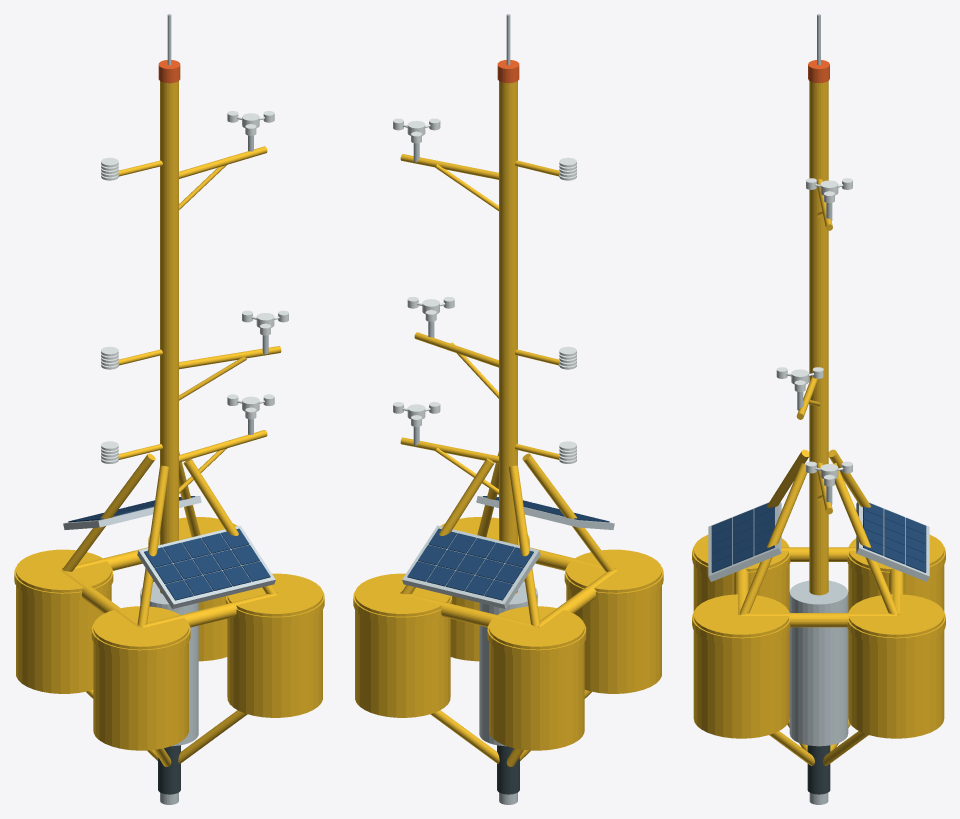
The model's file is deepsea-flux-buoy.glb.
3 renders of one model, left to right at view 1: azimuth 30°, elevation 25°; view 2: azimuth 150°, elevation 25°; view 3: azimuth 270°, elevation 25°, orthographic.
Visible parts, largest first — view 1: 浮筒 (×4), 主桅杆, 承力支架 (×4), 太阳能边框 (×2), 浮筒护圈 (×3), 浮体框架 (×3), 传感器横臂 (×3), 电池及采集舱, CTD, 水下支架; view 2: 浮筒 (×4), 主桅杆, 承力支架 (×4), 太阳能边框 (×2), 浮筒护圈 (×3), 浮体框架 (×3), 传感器横臂 (×3), 电池及采集舱, CTD, 水下支架; view 3: 浮筒 (×4), 主桅杆, 电池及采集舱, 承力支架 (×4), 浮筒护圈 (×4), 浮体框架 (×4), 太阳能边框 (×2), CTD, 水下支架 (×2).
Boxes of the visible parts, x1,y1,x2,y2 form: 浮筒 (×4): (16, 517, 322, 750); 主桅杆: (160, 81, 178, 593); 承力支架 (×4): (62, 451, 276, 627); 太阳能边框 (×2): (63, 496, 275, 608); 浮筒护圈 (×3): (14, 567, 324, 657); 浮体框架 (×3): (61, 537, 276, 627); 传感器横臂 (×3): (179, 146, 281, 462); 电池及采集舱: (140, 581, 198, 746); CTD: (158, 745, 180, 794); 水下支架: (178, 710, 247, 763); 浮筒 (×4): (355, 517, 661, 750); 主桅杆: (499, 81, 517, 593); 承力支架 (×4): (401, 451, 615, 627); 太阳能边框 (×2): (402, 496, 614, 608); 浮筒护圈 (×3): (353, 567, 663, 657); 浮体框架 (×3): (401, 537, 616, 627); 传感器横臂 (×3): (400, 154, 498, 463); 电池及采集舱: (479, 581, 537, 746); CTD: (497, 745, 519, 794); 水下支架: (430, 710, 499, 763); 浮筒 (×4): (693, 534, 944, 738); 主桅杆: (809, 81, 828, 595); 电池及采集舱: (789, 580, 848, 746); 承力支架 (×4): (739, 449, 898, 615); 浮筒护圈 (×4): (692, 546, 945, 645); 浮体框架 (×4): (734, 547, 903, 627); 太阳能边框 (×2): (708, 502, 929, 581); CTD: (807, 745, 830, 794); 水下支架 (×2): (769, 731, 868, 765).
Bounding box in the file's own units: 2.43 × 8.32 × 2.43.
